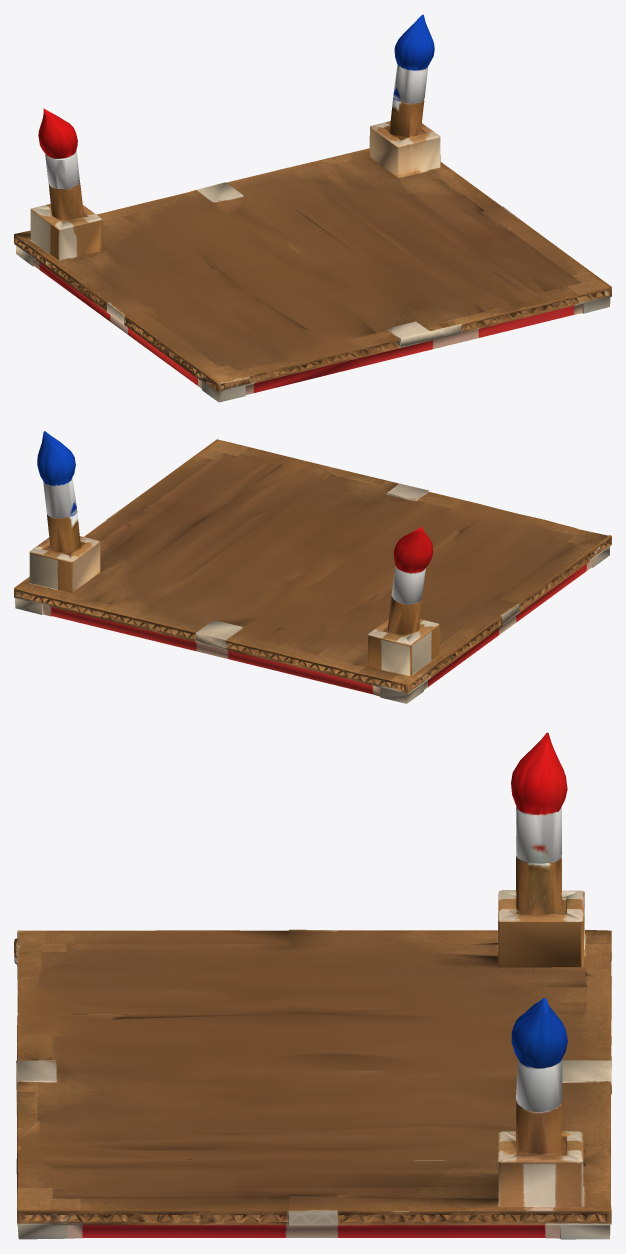
The model's file is 8-topper.fbx.
The picture shows the model from 3 angles, top to bottom: view 1: azimuth 30°, elevation 25°; view 2: azimuth 150°, elevation 25°; view 3: azimuth 270°, elevation 25°; orthographic projection. The views are drawn at different scales.
Parts seen in each view (by area): view 1: topper; view 2: topper; view 3: topper.
Part boxes in pixels (box(x1,y1,x2,y2)): topper: box(14, 14, 611, 402); topper: box(14, 431, 611, 703); topper: box(14, 732, 611, 1239).
Bounding box in the file's own units: 9004 × 3524 × 8064.
1 material, 1 textured.
